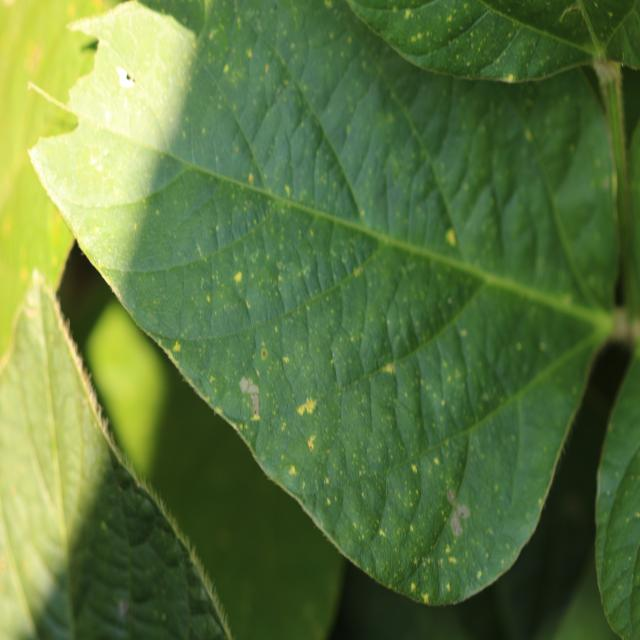Soybean: (0, 0, 640, 640)
downey_mildew: (300, 245, 445, 554), (223, 179, 542, 301), (36, 102, 272, 215), (359, 54, 486, 259), (248, 303, 370, 510), (201, 235, 413, 354), (378, 242, 603, 354), (515, 84, 611, 313), (177, 141, 395, 239), (270, 32, 375, 227), (465, 310, 609, 439), (2, 150, 77, 365), (135, 481, 240, 632), (67, 229, 178, 349), (152, 324, 253, 452), (351, 404, 509, 484), (455, 380, 530, 534), (63, 315, 132, 475), (32, 292, 71, 554), (1, 65, 55, 252), (25, 136, 105, 242), (0, 489, 47, 640), (597, 357, 639, 509), (58, 428, 88, 640), (65, 68, 146, 142), (473, 15, 549, 78), (199, 256, 254, 339), (116, 473, 140, 640), (107, 0, 207, 40), (161, 314, 293, 344), (471, 57, 610, 84), (600, 544, 639, 632), (87, 32, 141, 94), (614, 59, 640, 166), (575, 2, 613, 74), (129, 587, 181, 638), (444, 6, 499, 51), (601, 6, 640, 68), (26, 79, 81, 122), (66, 11, 115, 40), (128, 562, 160, 605), (558, 4, 583, 24), (80, 38, 99, 54)
